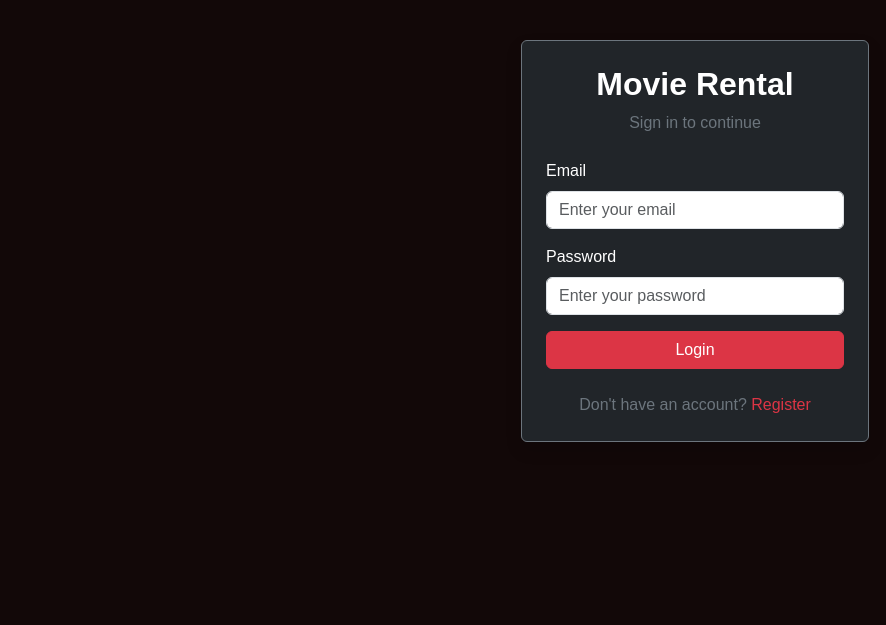
Test: Login › navigates to /home after successful login
Type "bhavesh@example.com" into the field with placeholder "Enter your email" at (695, 210), box [546, 191, 844, 229]
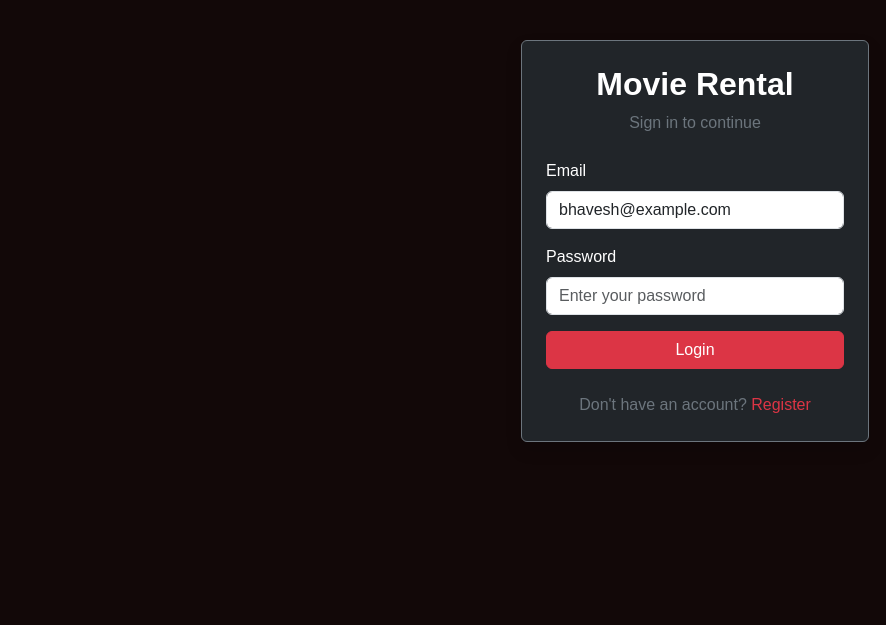
Type "password123" into the password field with placeholder "Enter your password" at (695, 296), box [546, 277, 844, 315]
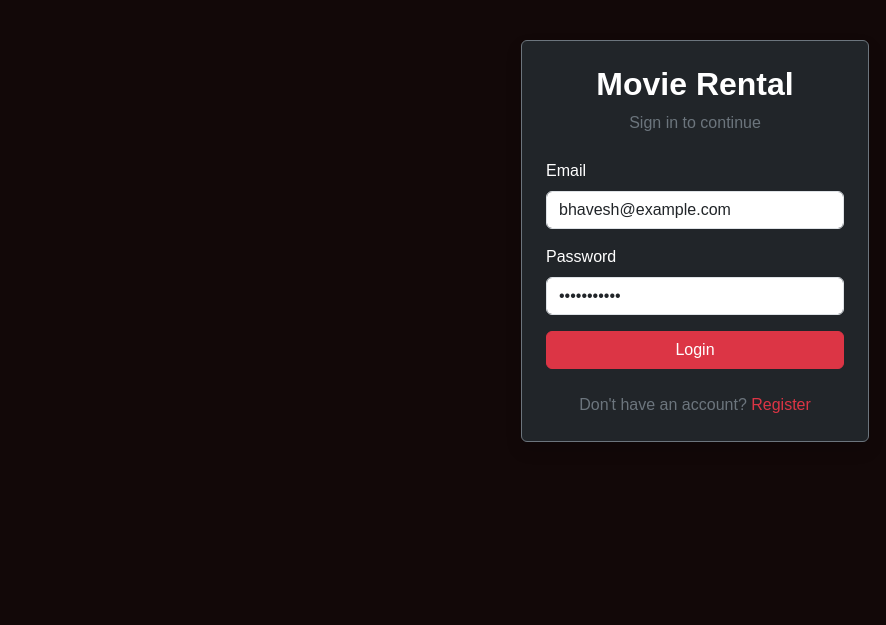
Click the button "Login" at (695, 350), box [546, 331, 844, 369]
(page scrolled)
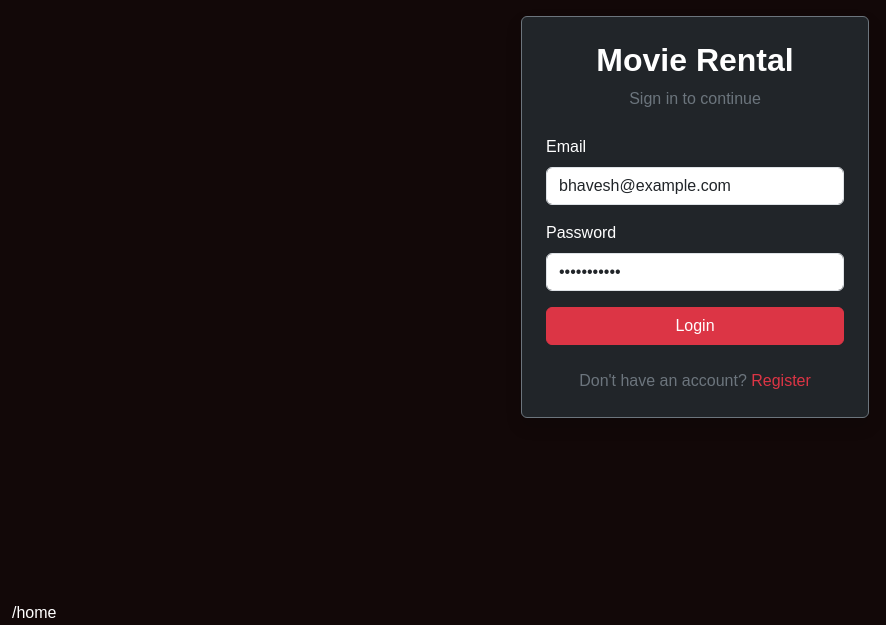
Now the text with test id "location" reads "/home", box [12, 604, 56, 621]
